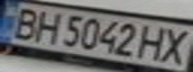0: (75, 16, 103, 52)
2: (115, 20, 142, 57)
4: (96, 18, 121, 55)
5: (57, 12, 87, 48)
B: (3, 5, 45, 39)
H: (24, 8, 66, 45), (136, 23, 172, 62)
X: (154, 26, 193, 66)
